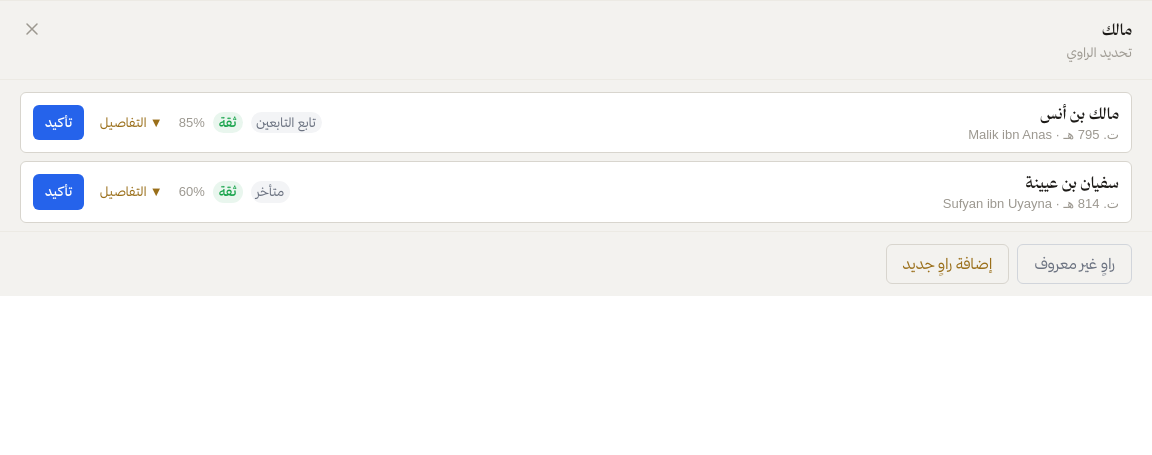
Test: NarratorDisambiguationPanel › expanding a second candidate collapses the first
# Expand first
Click the button "▼ التفاصيل" next to "85".
click(131, 122)  # box [96,110,167,134]
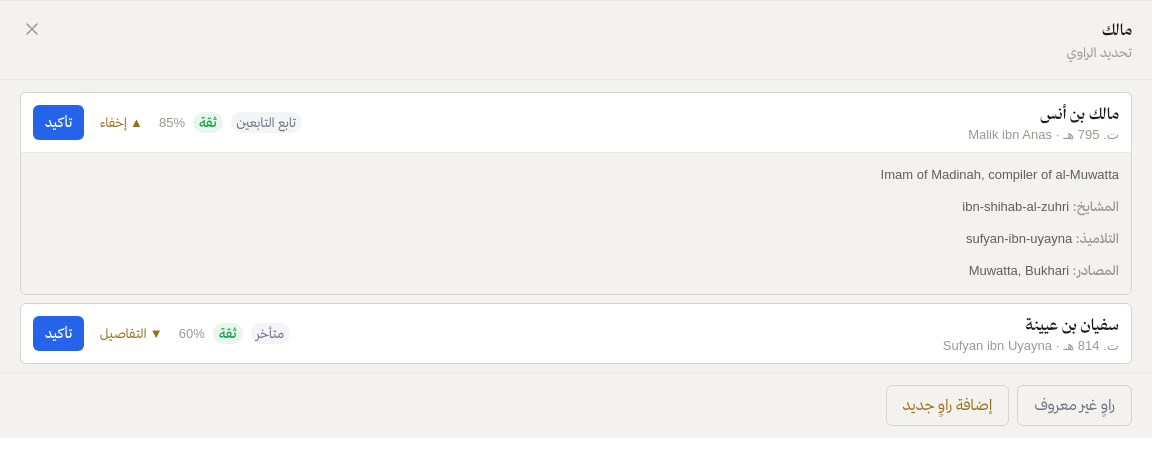
Expected: the text "Imam of Madinah, compiler of al-Muwatta" is shown, [881,167,1119,182]
Click the button "▼ التفاصيل".
click(131, 334)  # box [96,322,167,345]
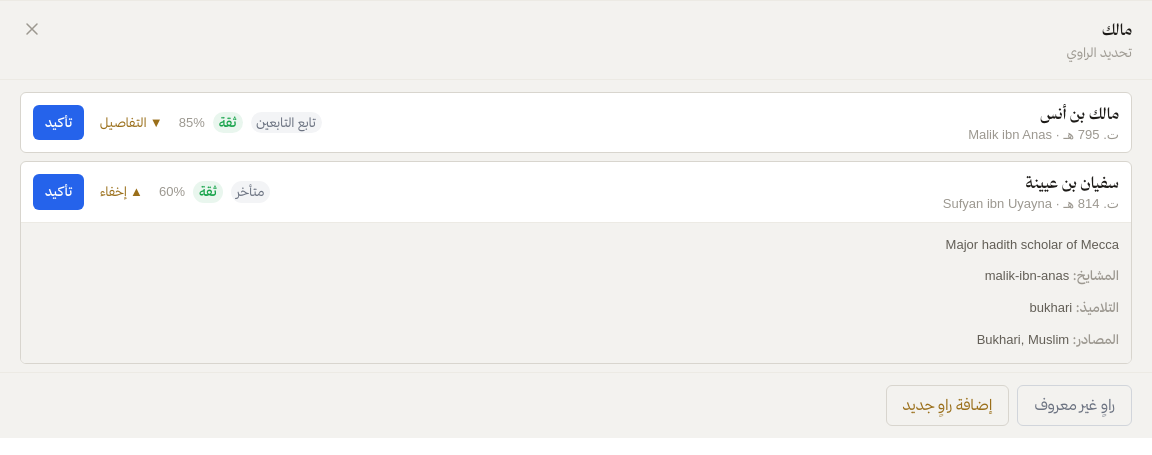
Expected: the text "Imam of Madinah, compiler of al-Muwatta" is gone
Expected: the text "Major hadith scholar of Mecca" is shown, [946,236,1119,252]
